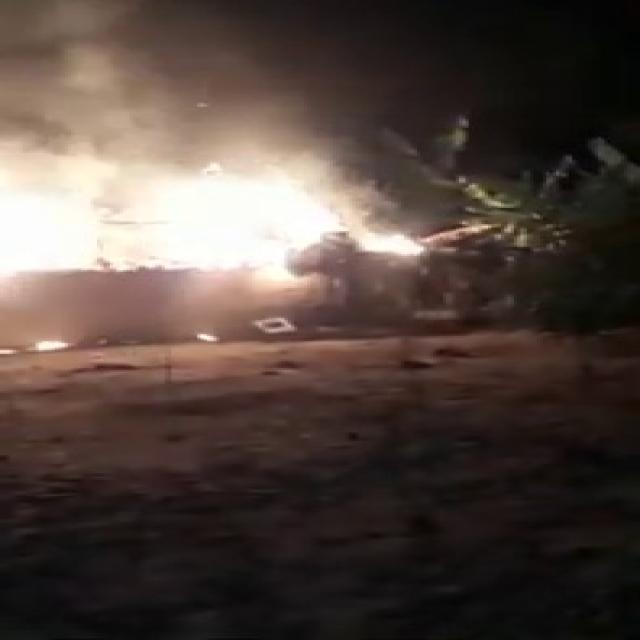Fire: (9, 142, 420, 290)
Smoke: (26, 10, 404, 186)
